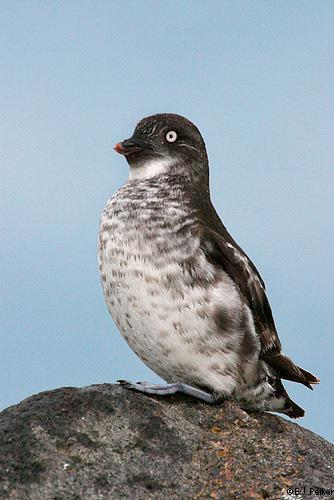006.Least_Auklet: (96, 110, 320, 419)
